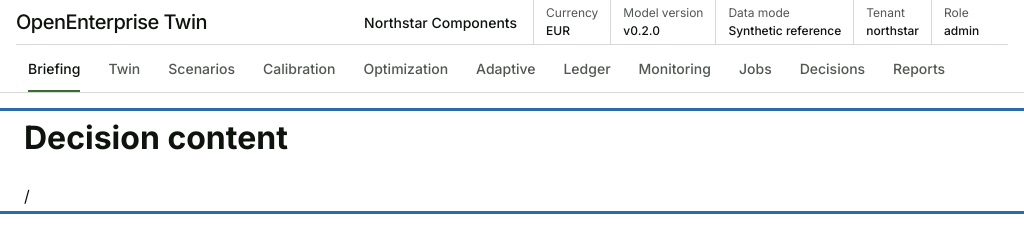
it: AppShell › navigates between destinations without replacing the shell
The image size is (1024, 231).
Click the link "Reports" at (919, 68), box [893,60,945,76]
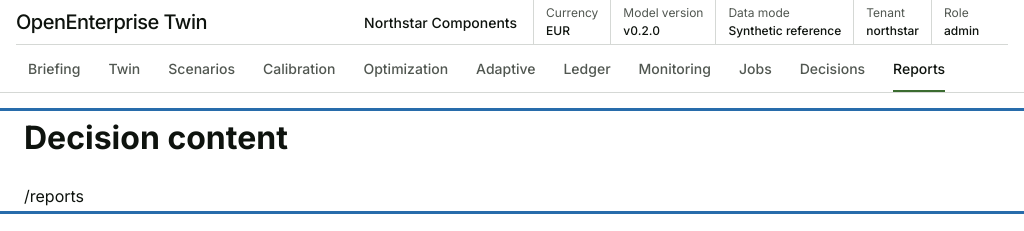
Expected: the heading "Decision content" is shown, [24,118,288,157]
Expected: the text with test id "location" reads "/reports", [24,186,84,206]
